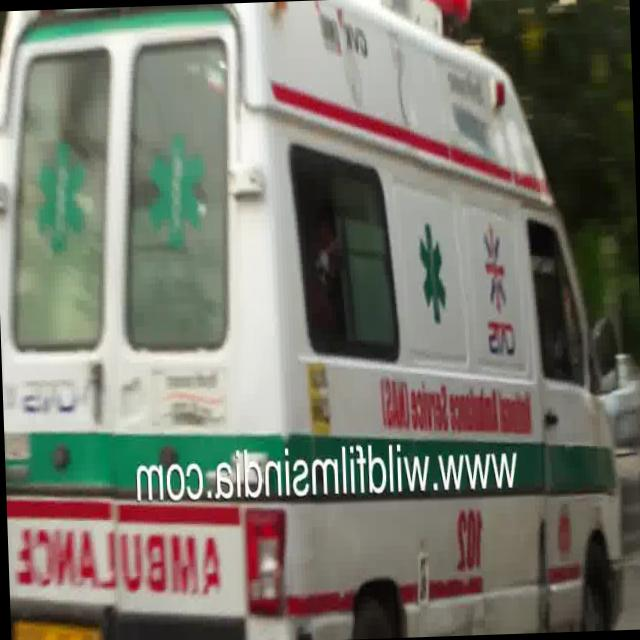ambulance: (0, 0, 593, 459), (8, 495, 629, 640)
